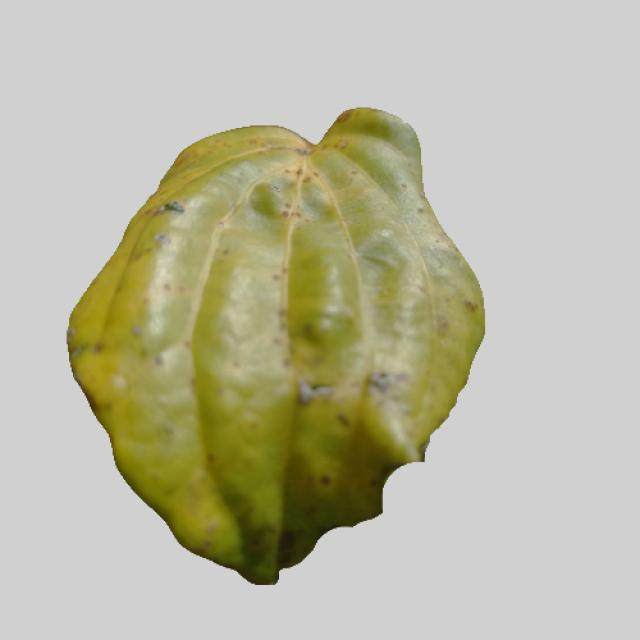yellow-mottle-virus: (58, 115, 508, 588)
